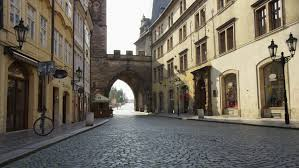strada: (14, 118, 299, 166)
